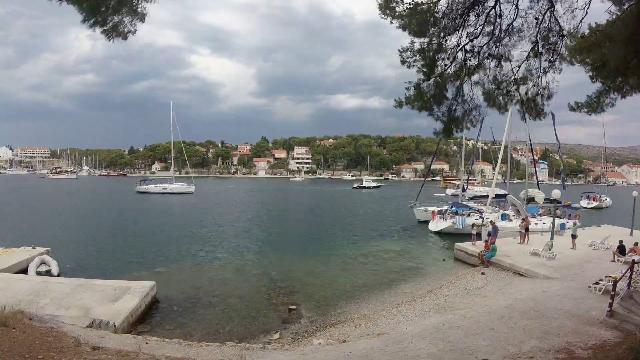Freighter: (43, 162, 81, 180)
Sailboat: (133, 176, 200, 197)
speedboat: (348, 175, 386, 191), (289, 174, 307, 182)
